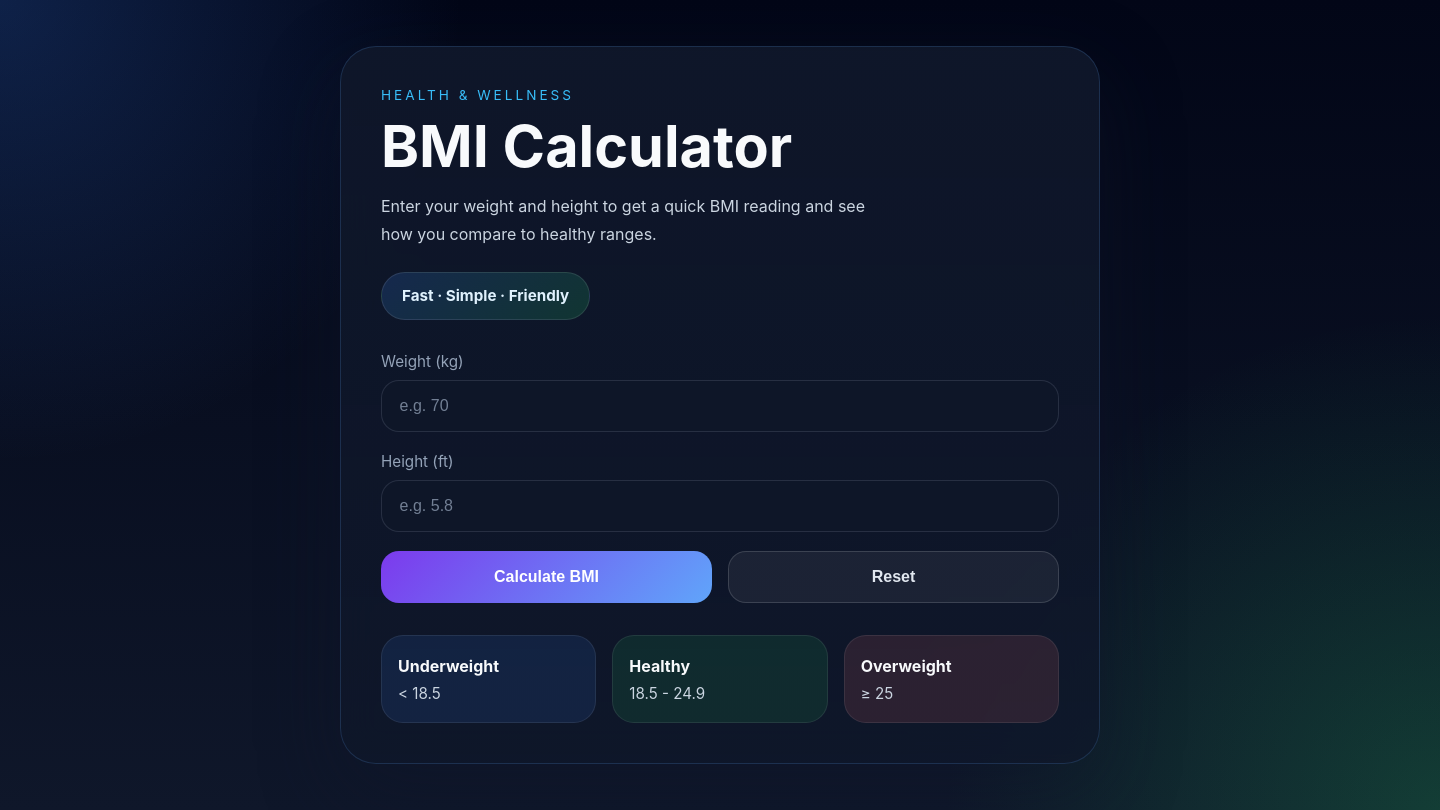
shows a diet plan after calculating BMI
The image size is (1440, 810).
Type "70" into the number field labelled "Weight (kg)" at (720, 406), box [381, 380, 1059, 432]
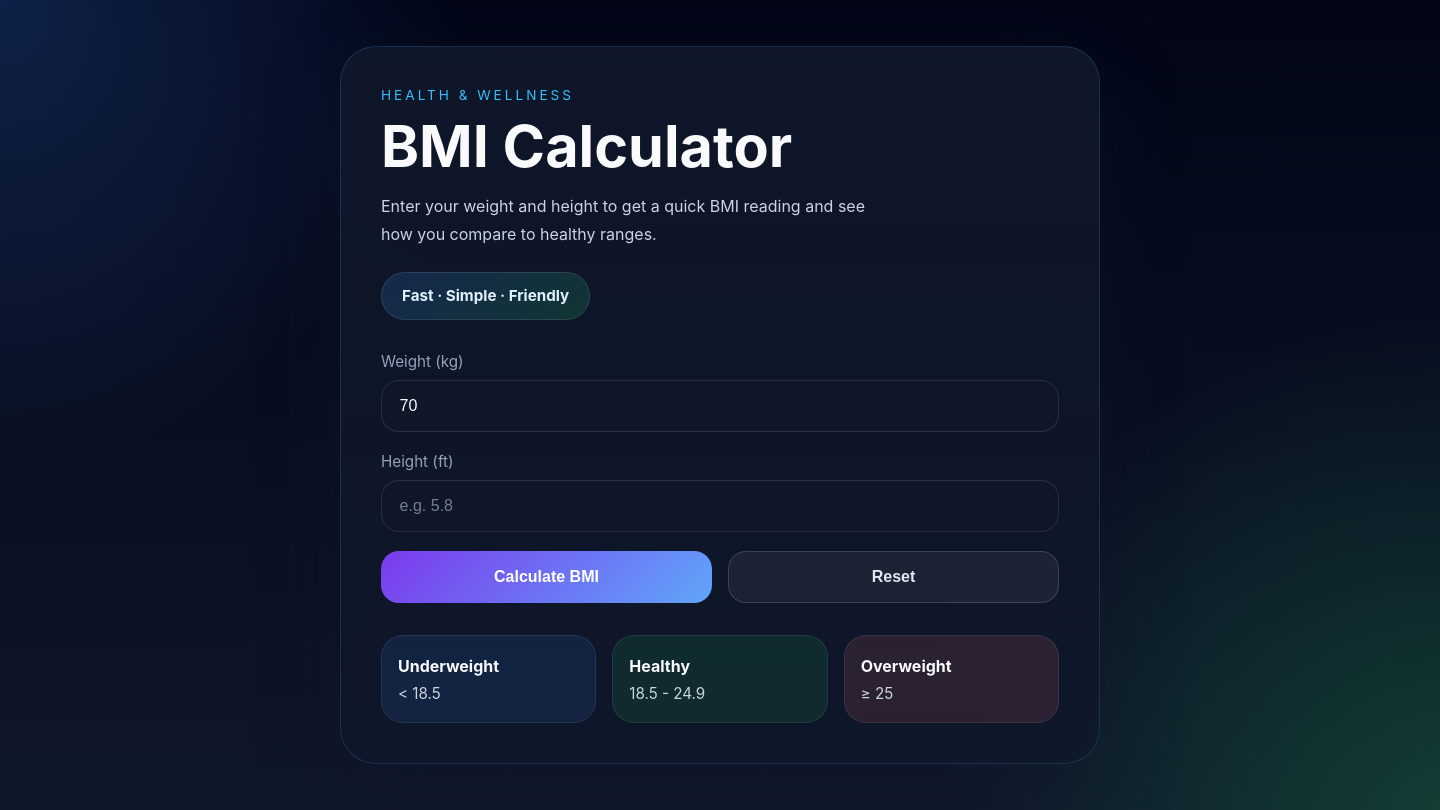
Type "5.8" into the number field labelled "Height (ft)" at (720, 506), box [381, 480, 1059, 532]
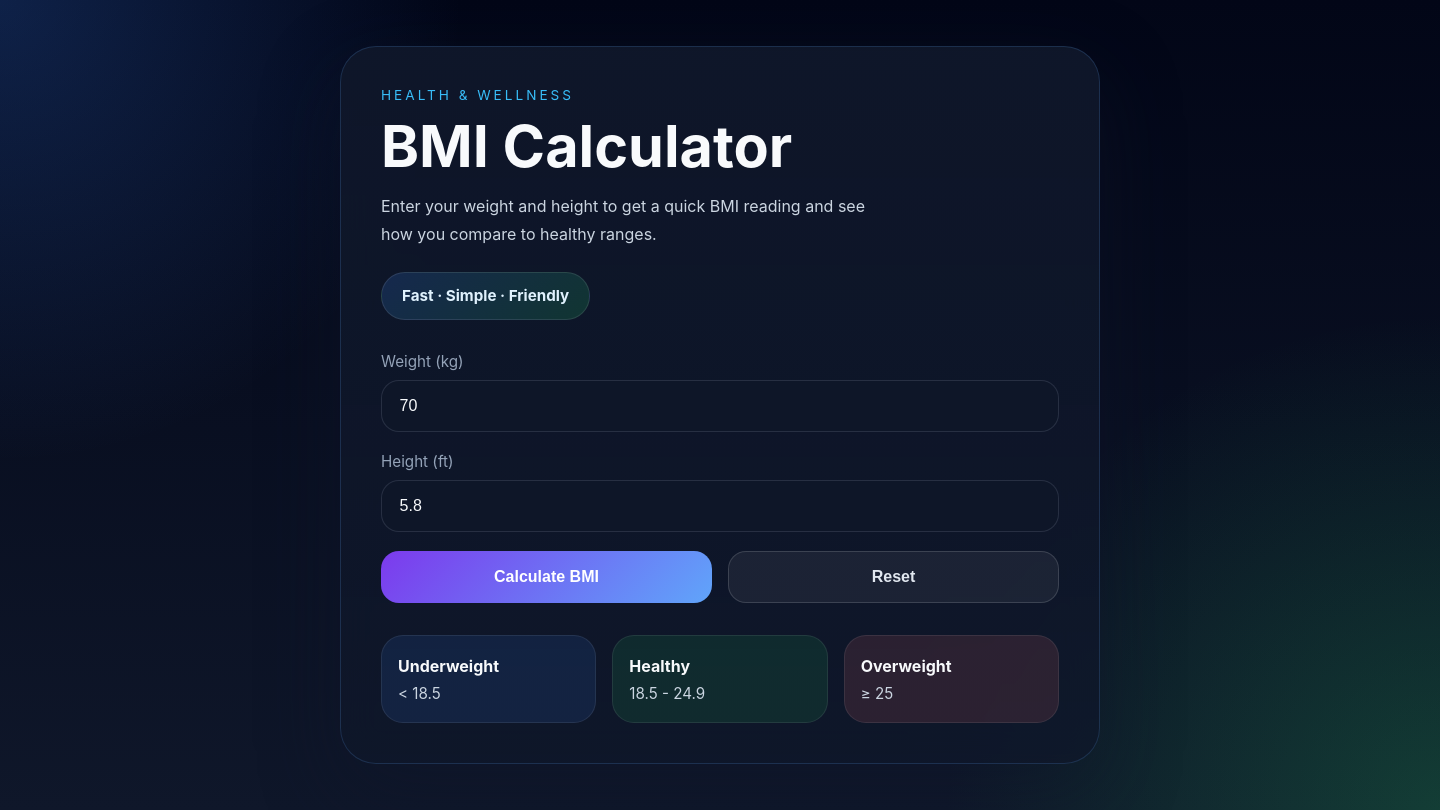
Click the button "Calculate BMI" at (546, 577), box [381, 551, 712, 603]
(page scrolled)
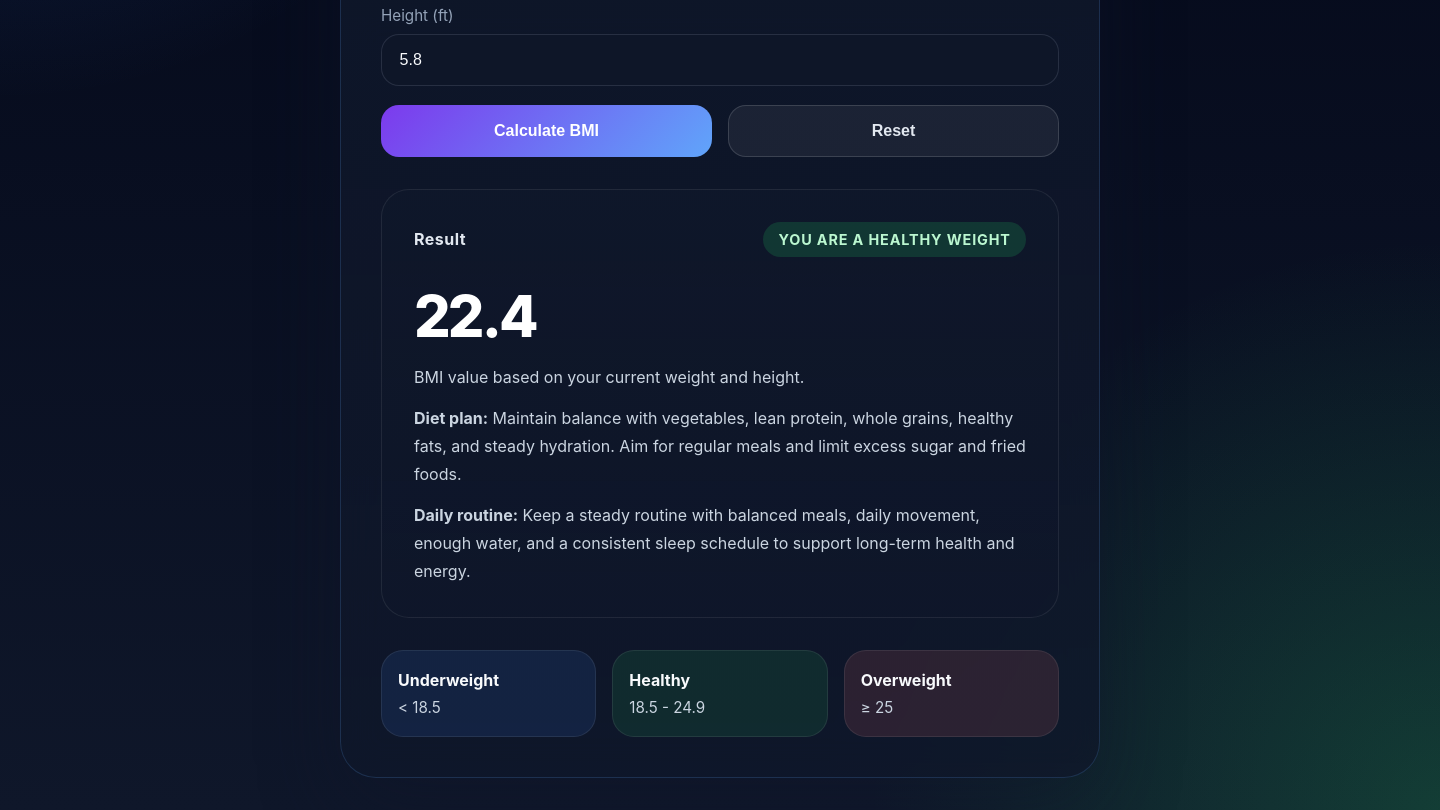
expect the text "Maintain balance with vegetables" is shown: met, box [414, 408, 1026, 484]
